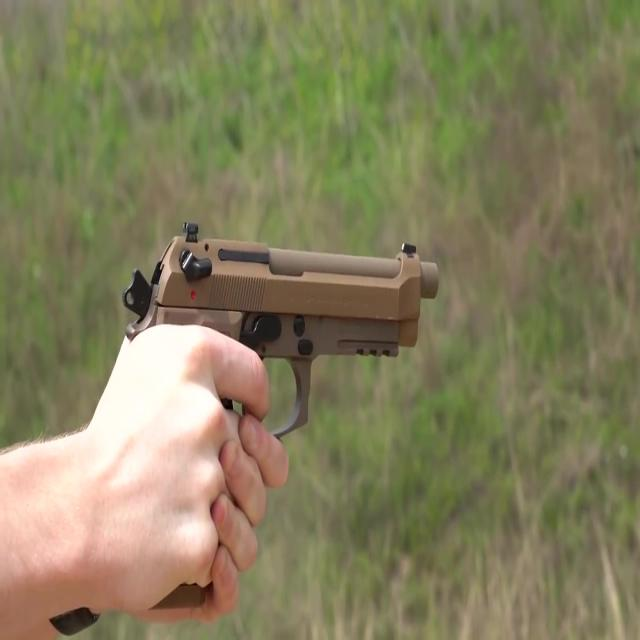Weapon: (64, 190, 526, 639)
